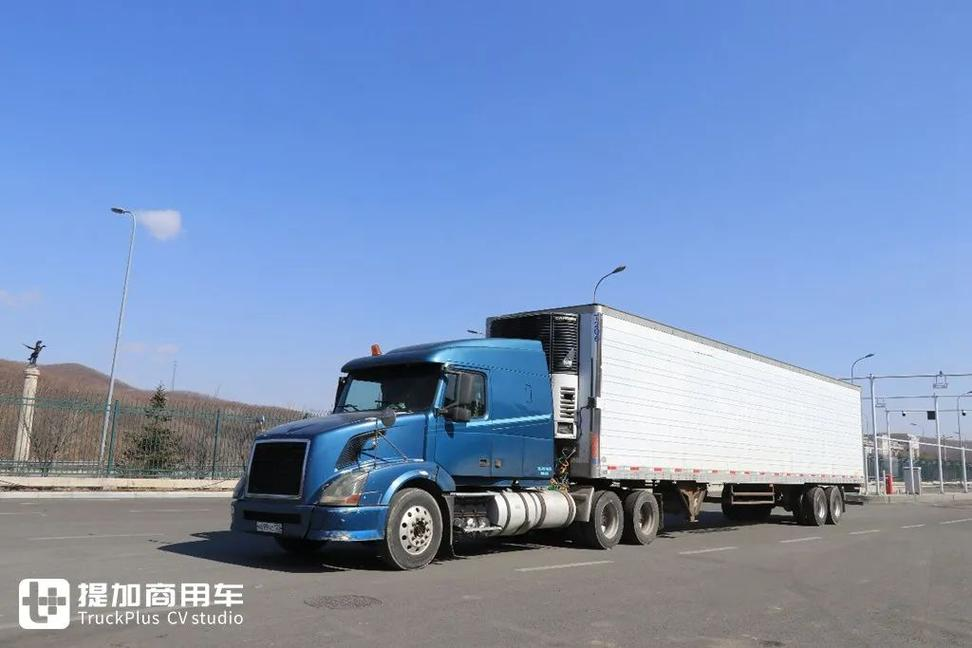卡车: (221, 272, 919, 603)
